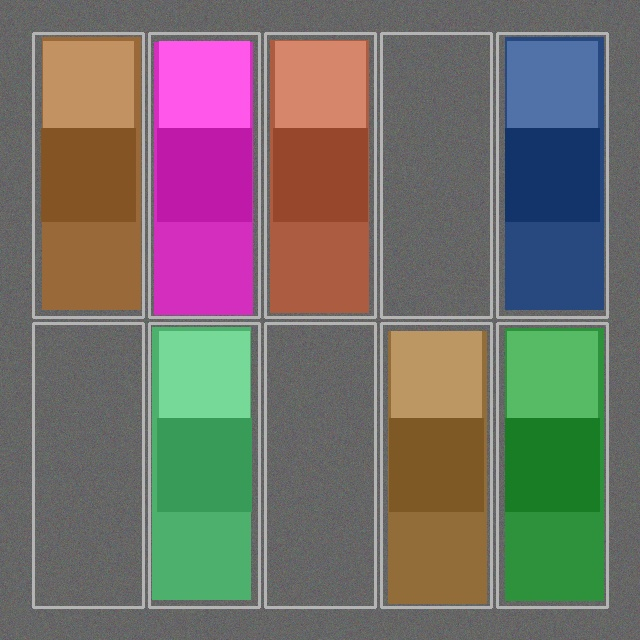space-empty: (383, 35, 489, 315), (35, 325, 141, 605), (267, 325, 373, 605)
space-occupied: (35, 35, 141, 315), (151, 35, 257, 315), (267, 35, 373, 315), (499, 35, 605, 315), (151, 325, 257, 605), (383, 325, 489, 605), (499, 325, 605, 605)
